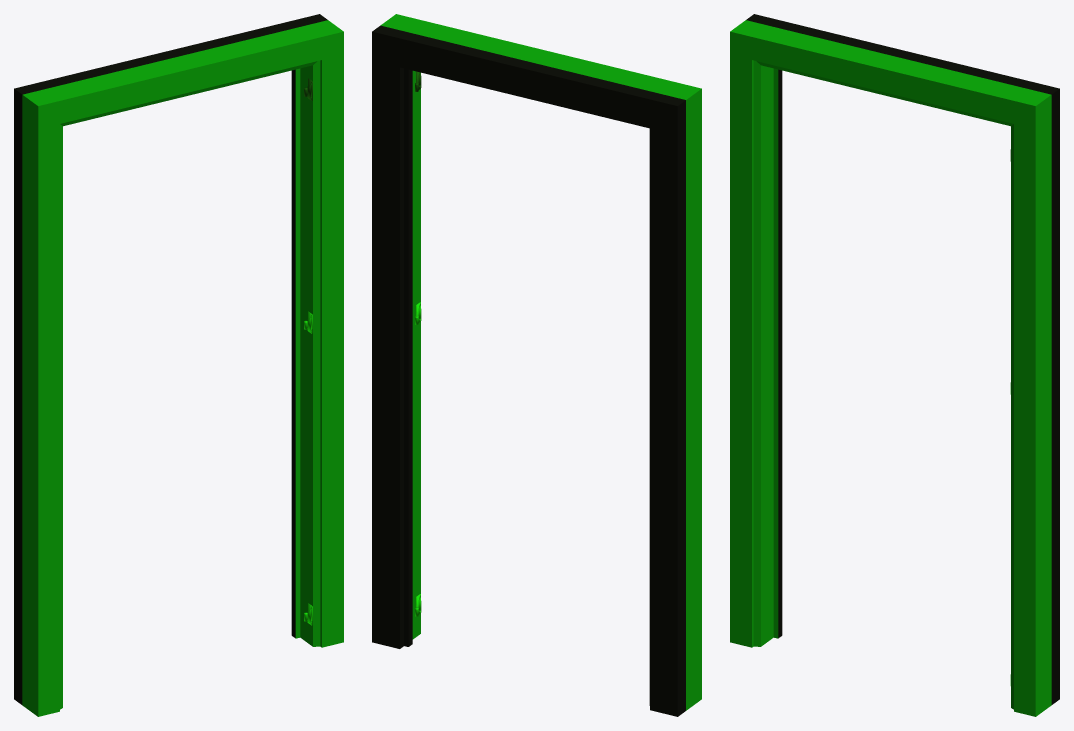
Rendered from doorframe_single_a.fbx.
The picture shows the model from 3 angles, left to right: view 1: azimuth 30°, elevation 25°; view 2: azimuth 150°, elevation 25°; view 3: azimuth 330°, elevation 25°; orthographic projection.
Parts seen in each view (by area): view 1: door_frame; view 2: door_frame; view 3: door_frame.
Part boxes in pixels (x1,y1,x2,y2): door_frame: (14,14,343,716); door_frame: (372,14,701,716); door_frame: (730,14,1059,716).
Size of the model in its own units: 110 by 210 by 15.
